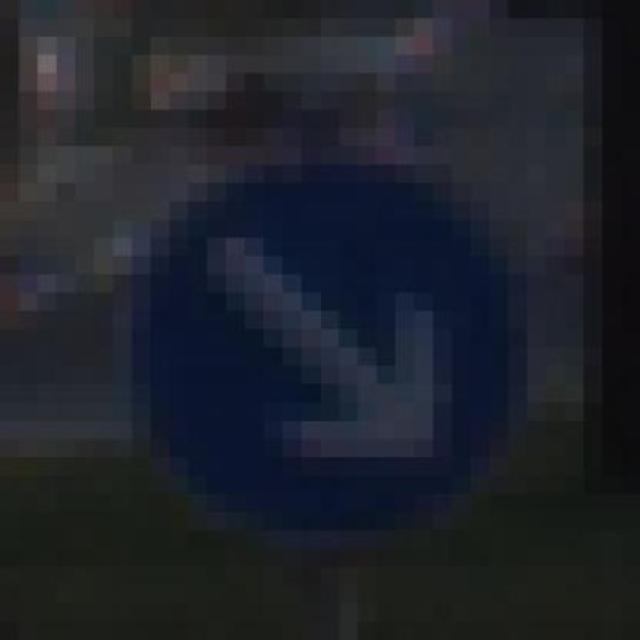Keep-Right: (112, 109, 546, 531)
